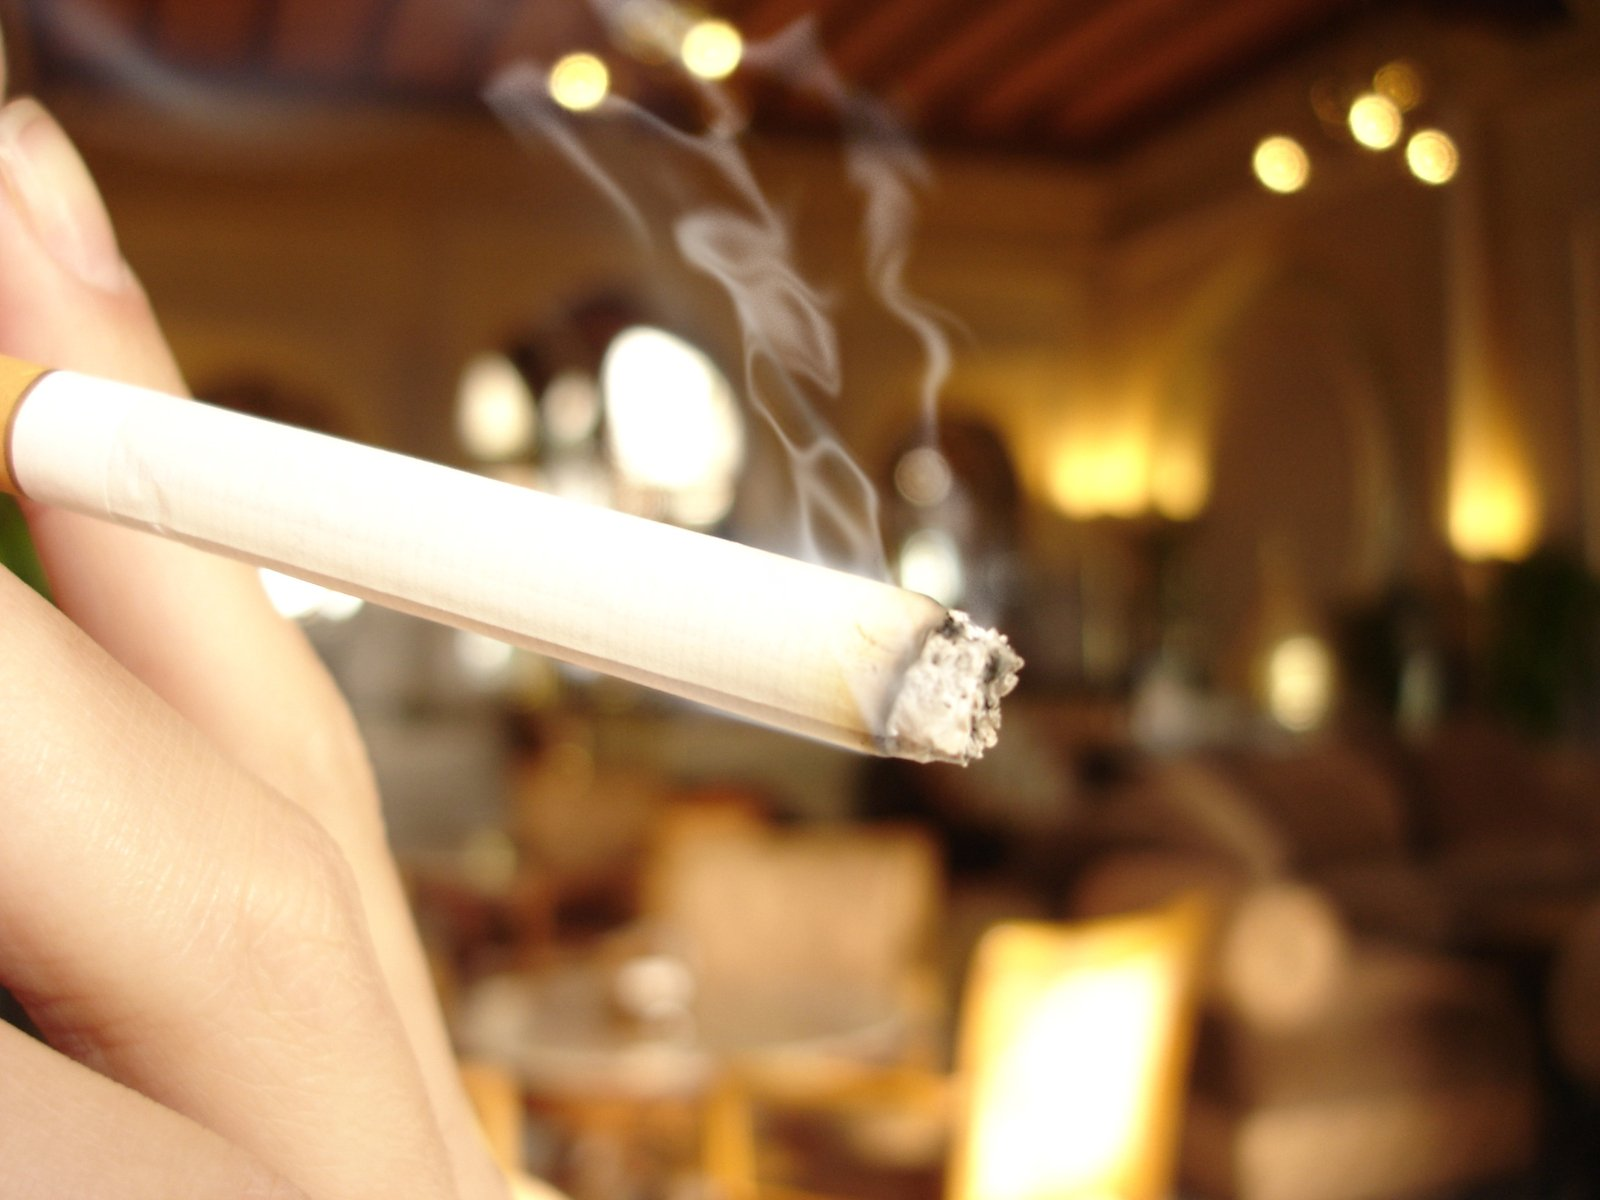cigarette: (5, 345, 1020, 773)
